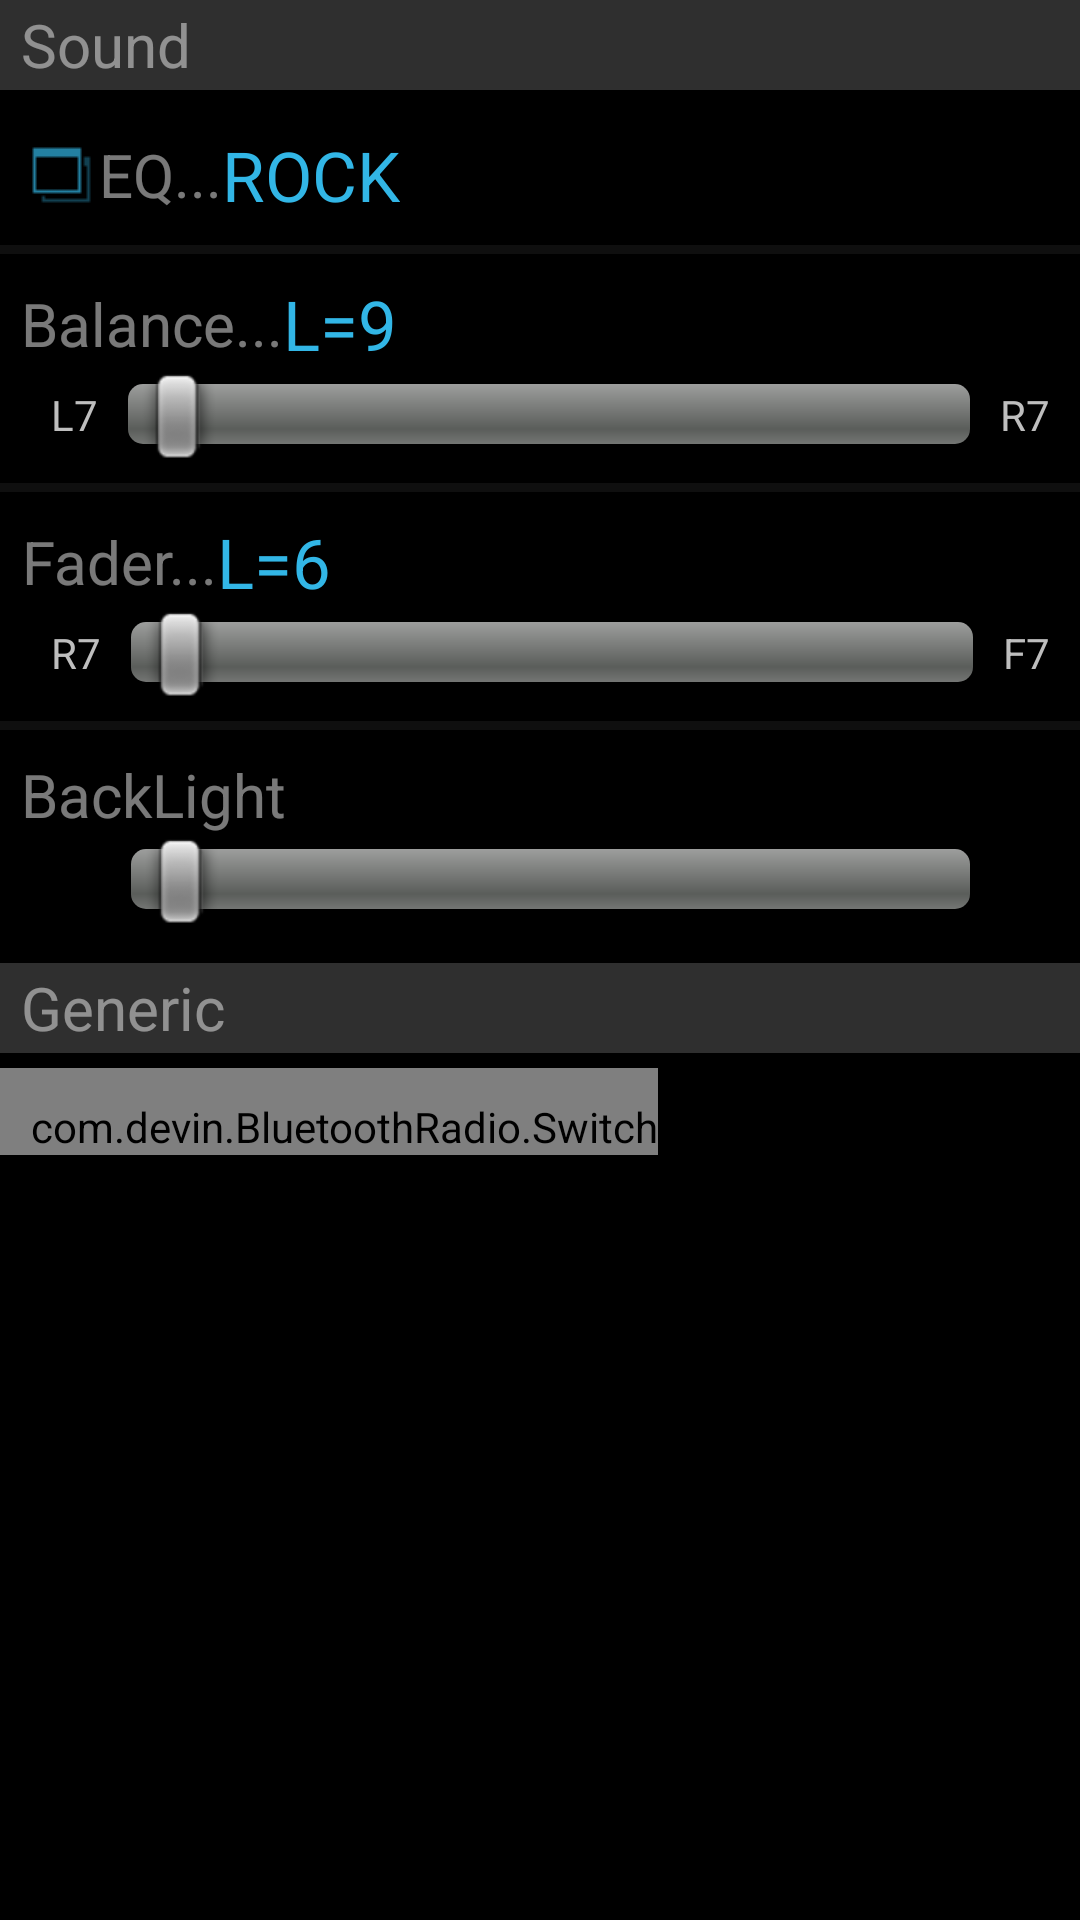

Screen size 1080x1920. Icon name, then its center in pixels as point (x, y):
setting pop up: point (61, 175)
